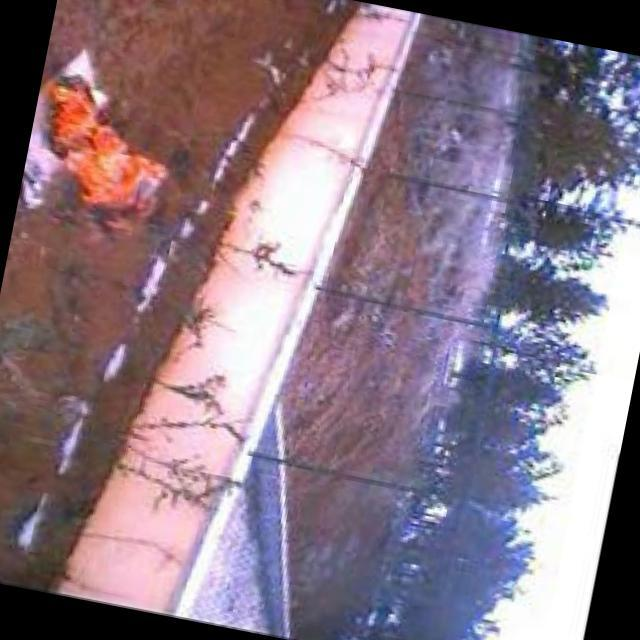Fire: (17, 65, 182, 234)
